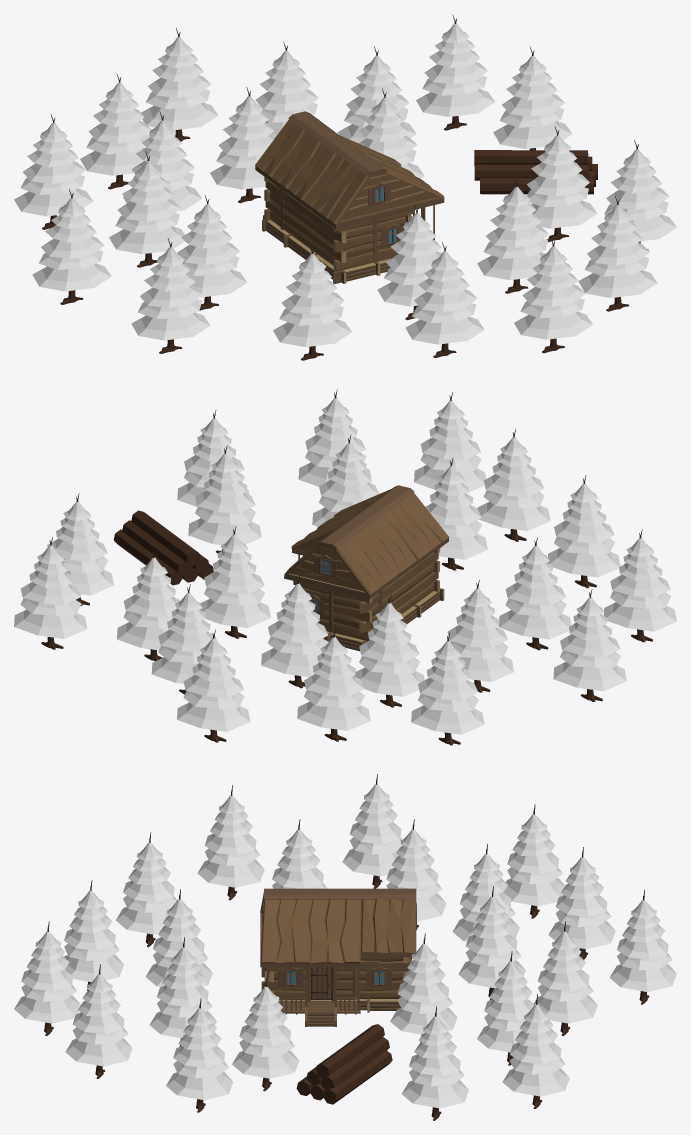
The model's file is forestTile.fbx.
3 renders of one model, top to bottom at view 1: azimuth 30°, elevation 25°; view 2: azimuth 150°, elevation 25°; view 3: azimuth 270°, elevation 25°, orthographic. The views are drawn at different scales.
Parts seen in each view (by area): view 1: Cube.001; view 2: Cube.001; view 3: Cube.001.
Boxes of the visible parts, x1,y1,x2,y2 form: Cube.001: (14,14,676,360); Cube.001: (14,389,676,745); Cube.001: (14,774,676,1120).
Bounding box in the file's own units: 750 × 144 × 794.
